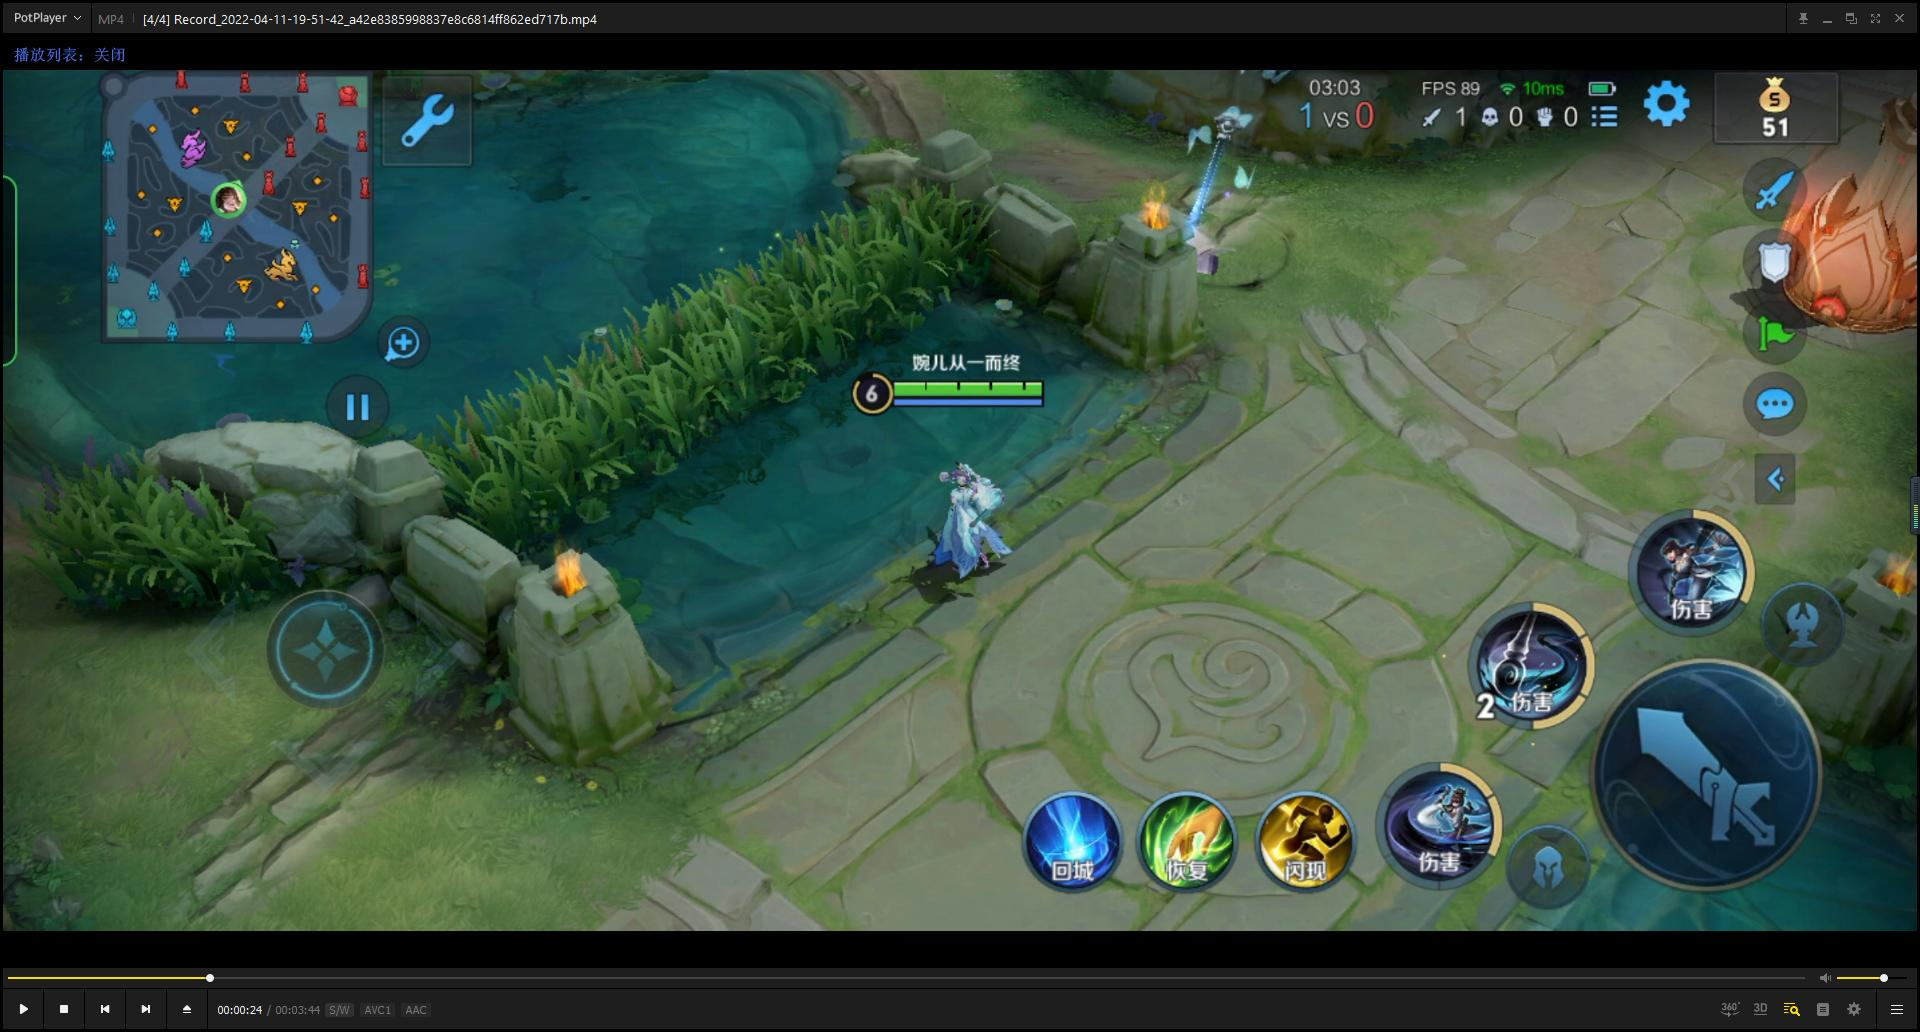Hero: (915, 452, 1019, 599)
Tower: (1762, 80, 1917, 341)
